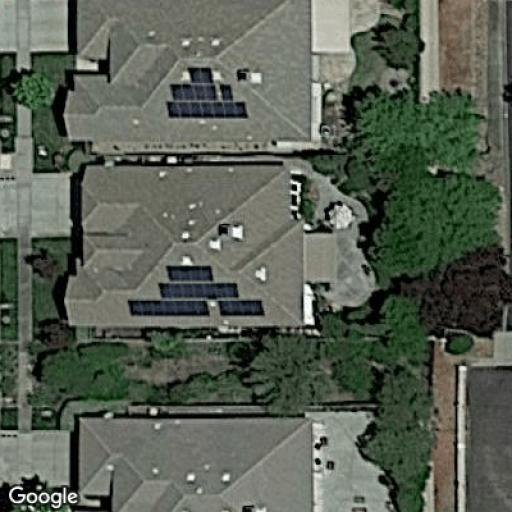solar-panel: (125, 262, 268, 318), (166, 65, 250, 120)
